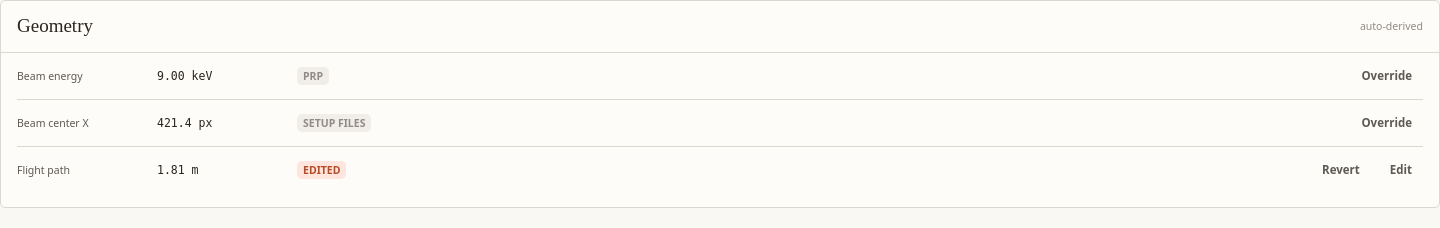
GeometryLedger › Override opens an input on that row, seeded with the row's editValue
Click the button with aria-label "override beam energy": (1387,76) [1350,63,1423,89]
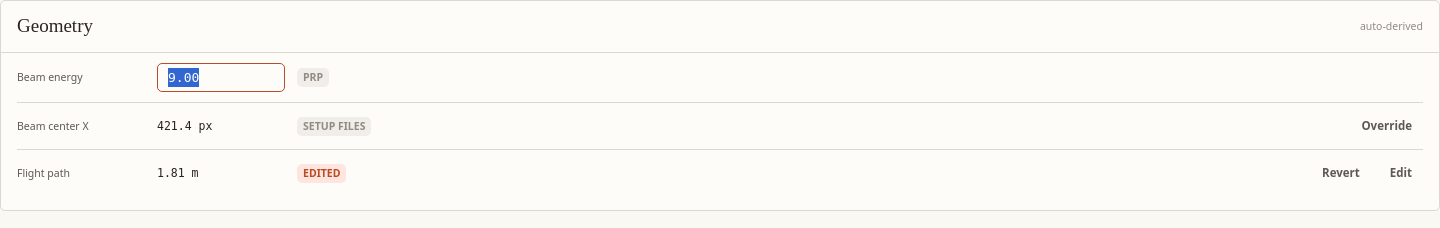
Expected: the field named "override beam energy" holds "9.00", [168,68,274,87]
